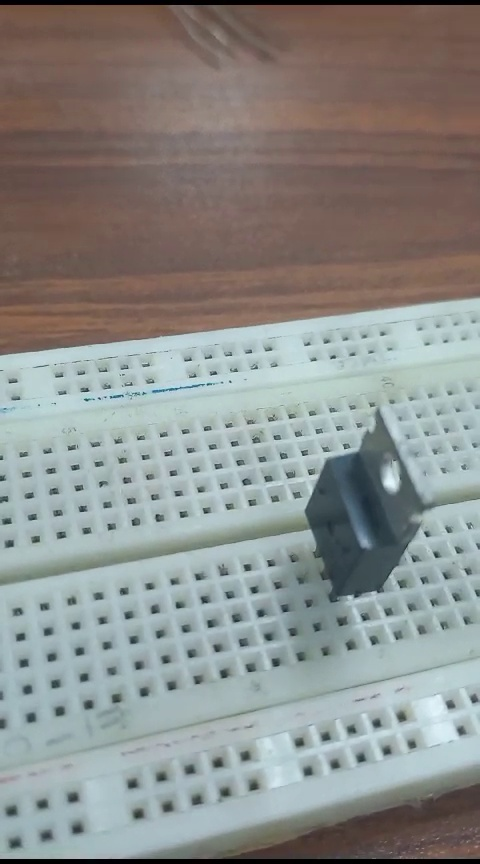voltage regulator: (286, 400, 444, 612)
